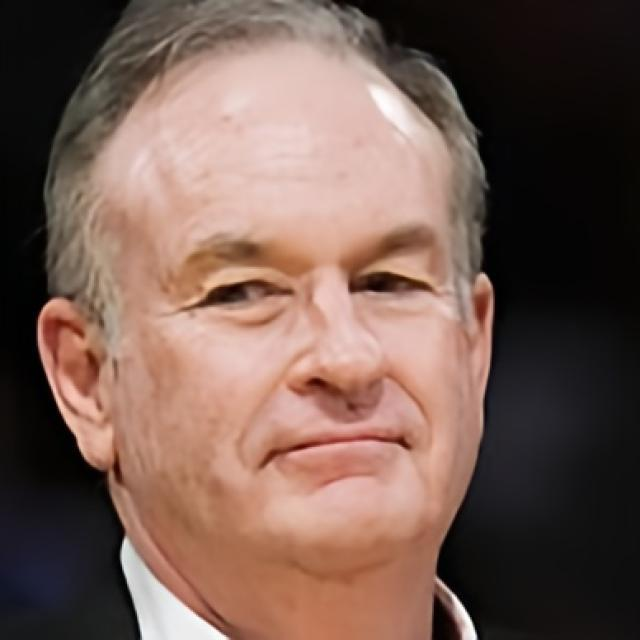content: (112, 29, 479, 576)
